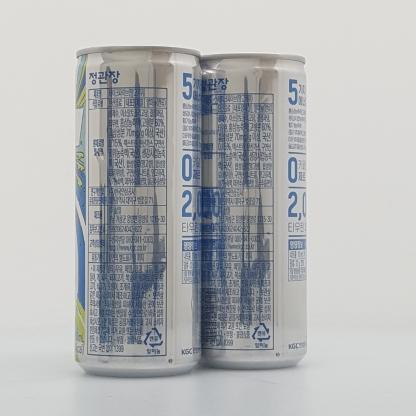---------: (75, 46, 202, 377), (199, 53, 307, 369)
